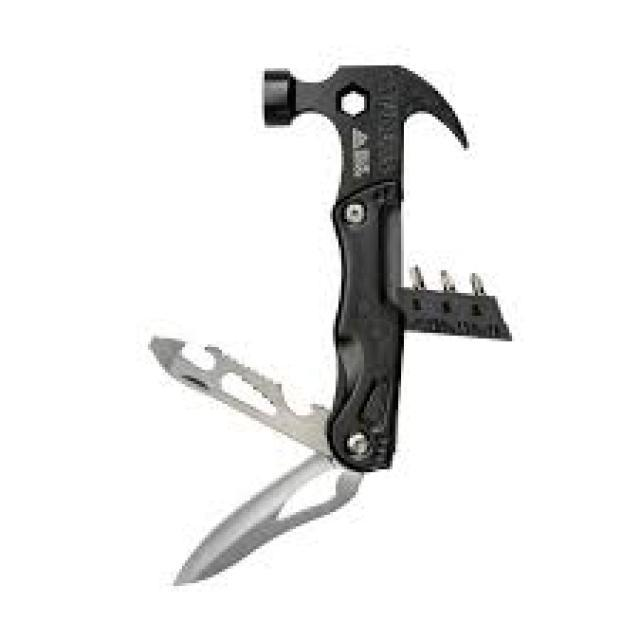Palu: (244, 32, 522, 536)
